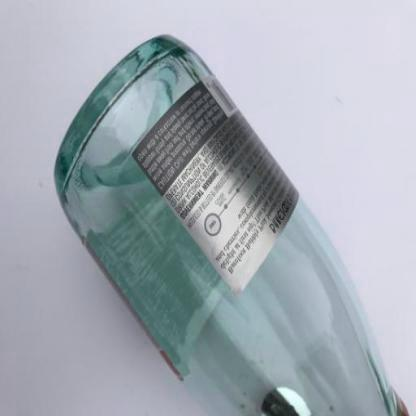Glass: (51, 31, 400, 415)
